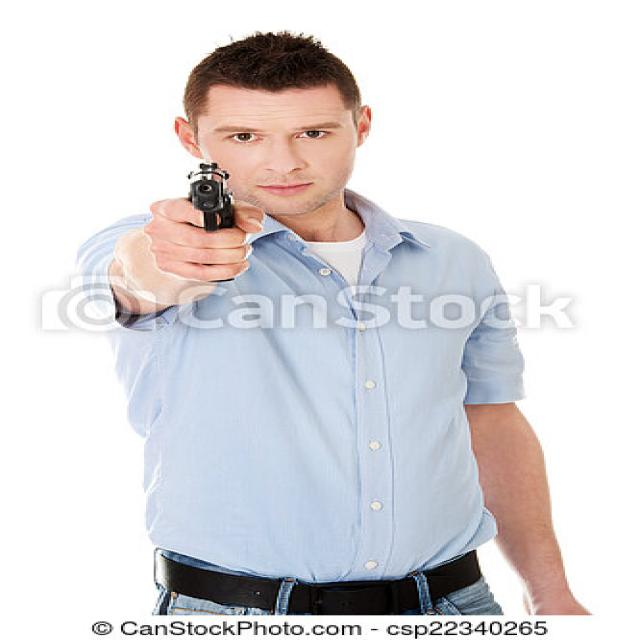HandGun: (186, 160, 234, 232)
